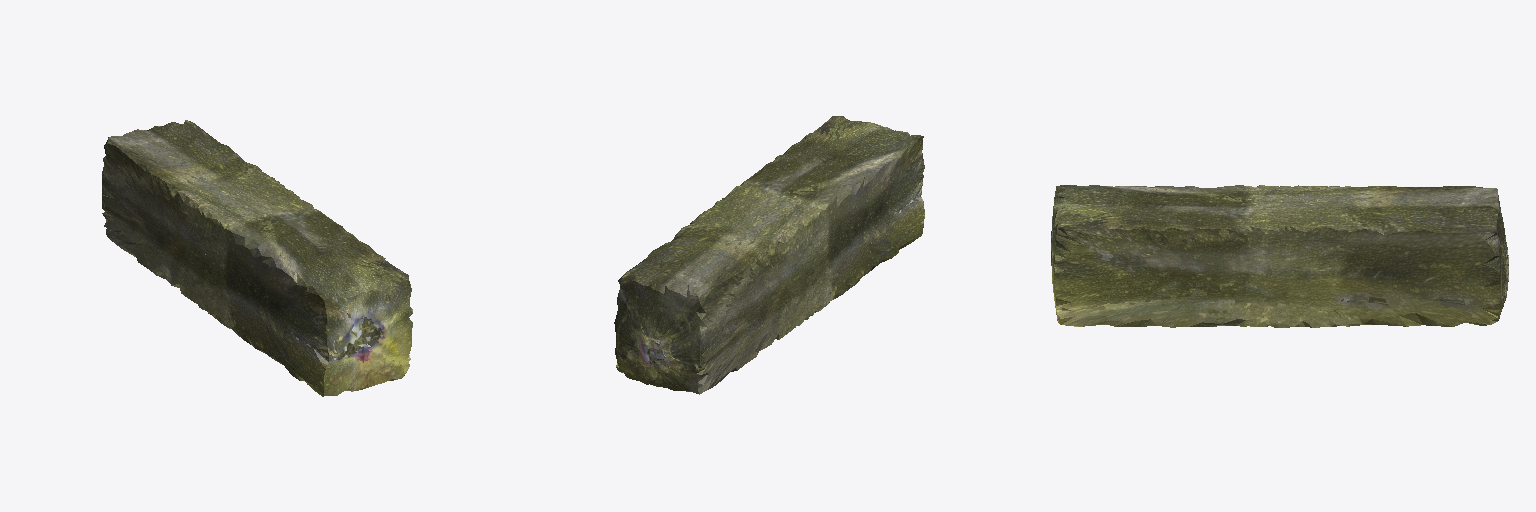
3 renders of one model, left to right at view 1: azimuth 30°, elevation 25°; view 2: azimuth 150°, elevation 25°; view 3: azimuth 270°, elevation 25°, orthographic.
Parts seen in each view (by area): view 1: Toasted_Broccoli_zucchini; view 2: Toasted_Broccoli_zucchini; view 3: Toasted_Broccoli_zucchini.
Boxes of the visible parts, box(x1,y1,x2,y2) form: Toasted_Broccoli_zucchini: box(102, 120, 412, 396); Toasted_Broccoli_zucchini: box(614, 116, 924, 394); Toasted_Broccoli_zucchini: box(1051, 185, 1508, 327).
Size of the model in its own units: 0.4996 by 0.5367 by 2.16.
Materials: 1 (1 with a texture image).